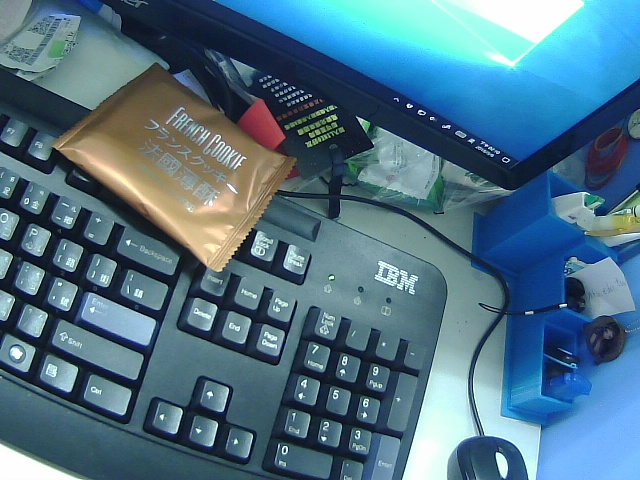frenchcookie: (49, 58, 301, 271)
